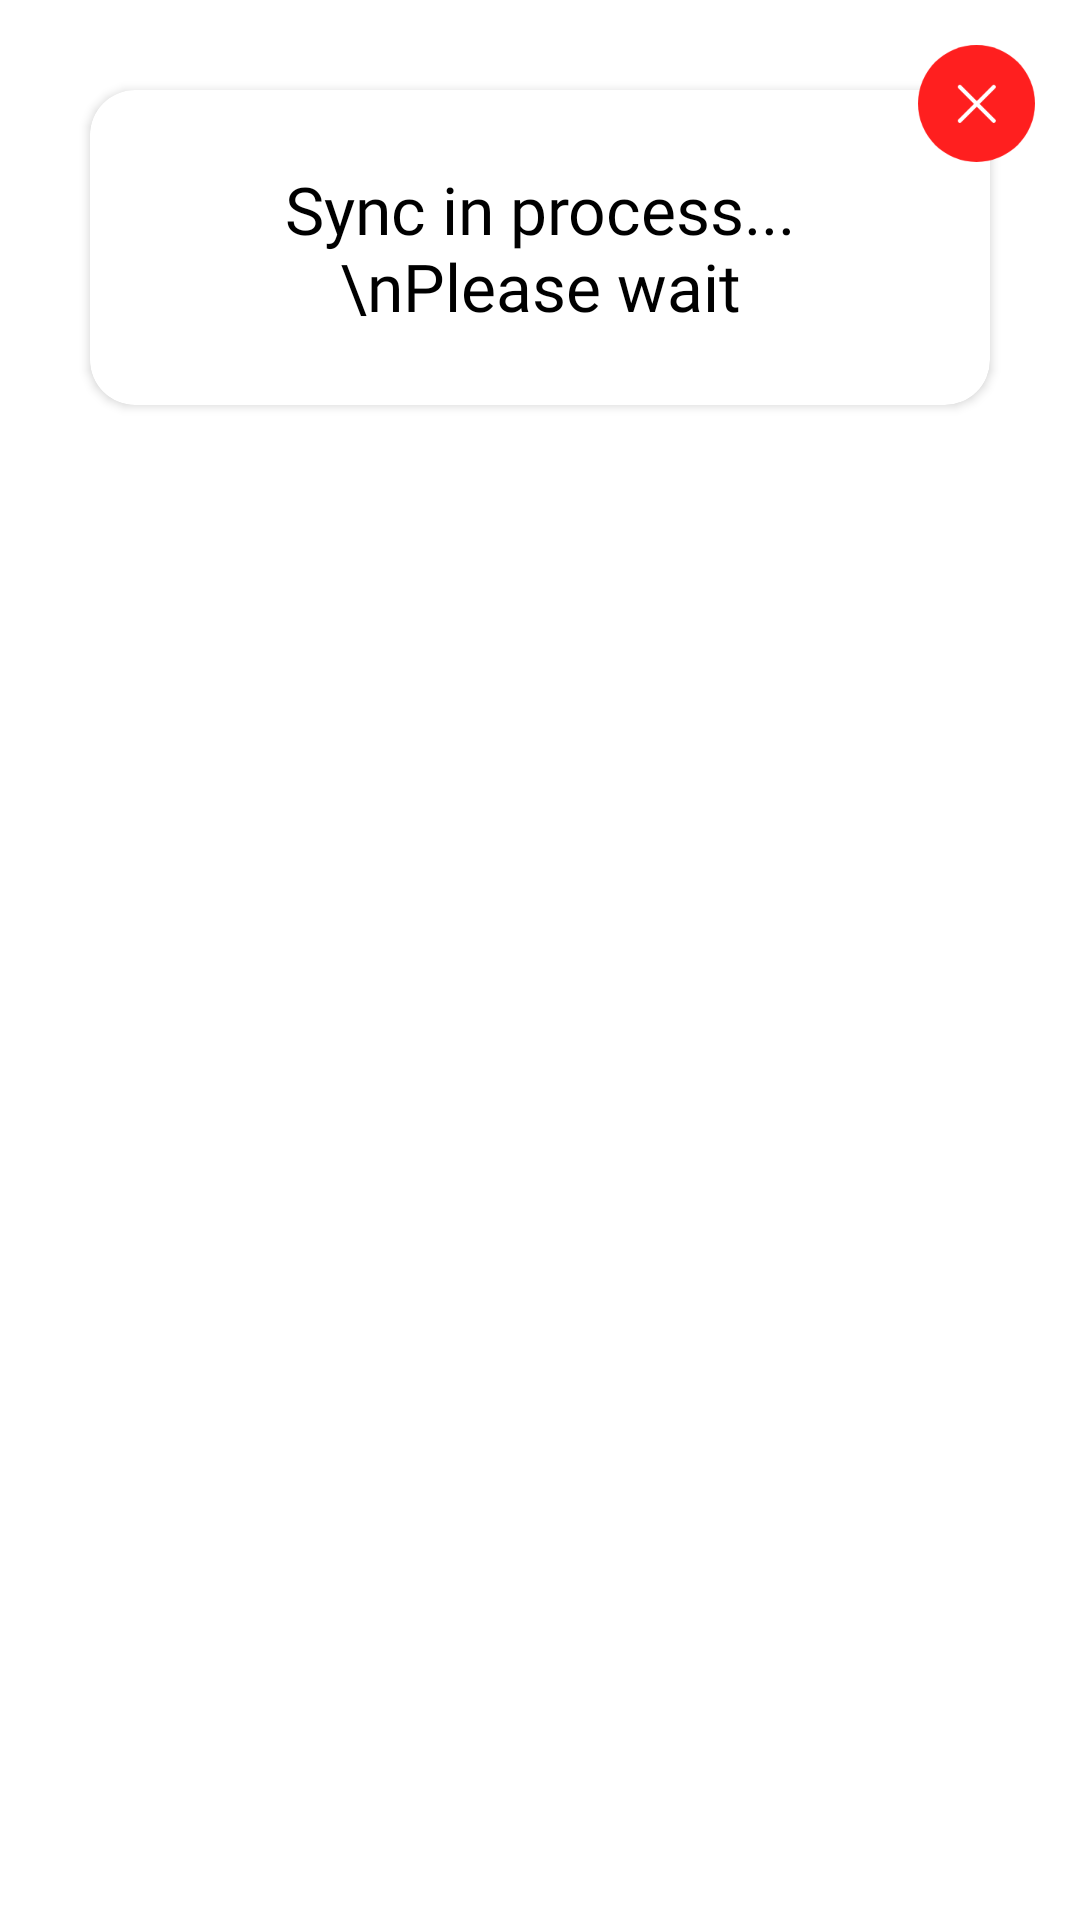

Named icons in this screenshot (1080 x 1920) and their centers, point (x, y):
close: point (976, 103)
